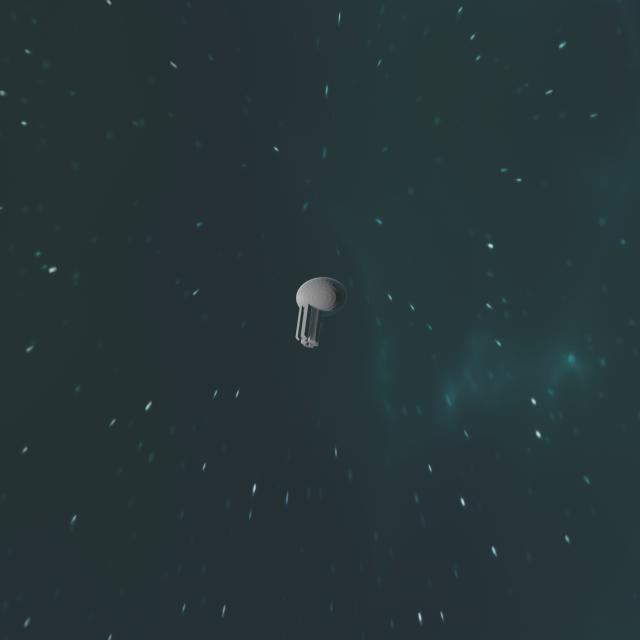large_debris: (294, 262, 343, 344)
